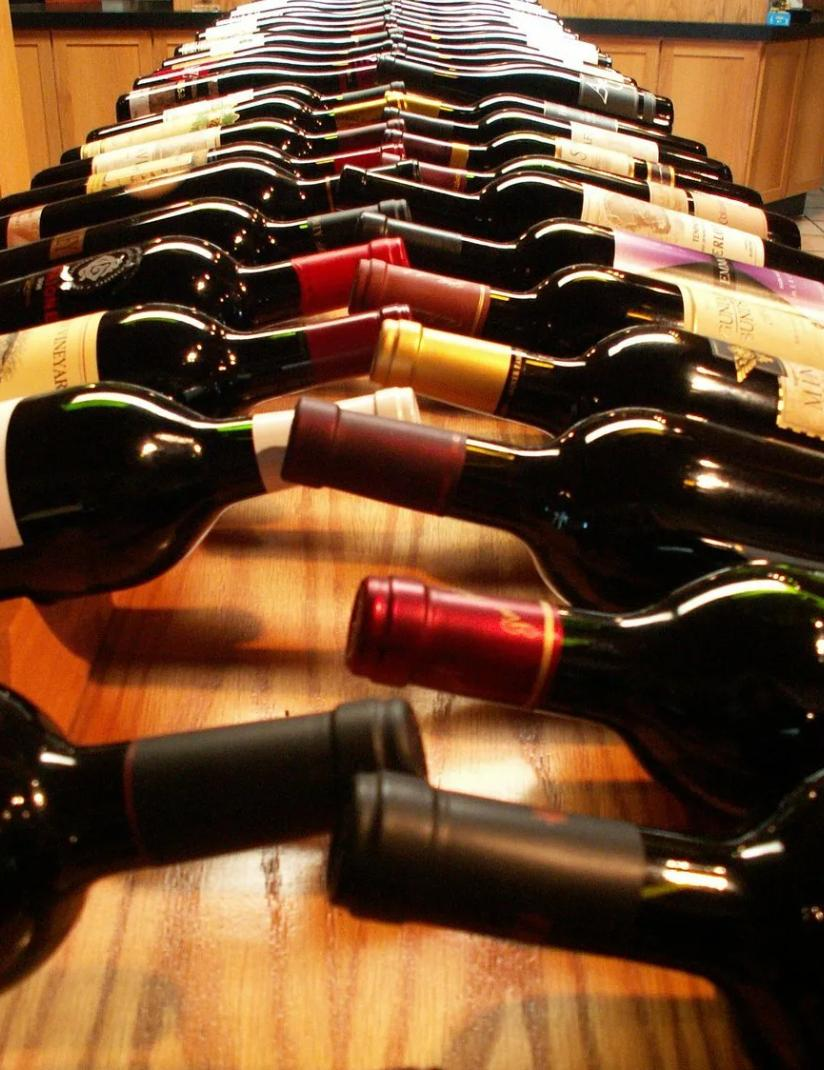wine bottle: (320, 768, 824, 1070), (2, 680, 436, 988), (344, 560, 824, 832), (279, 397, 824, 611), (0, 381, 426, 605), (366, 314, 824, 457), (3, 304, 414, 417)
